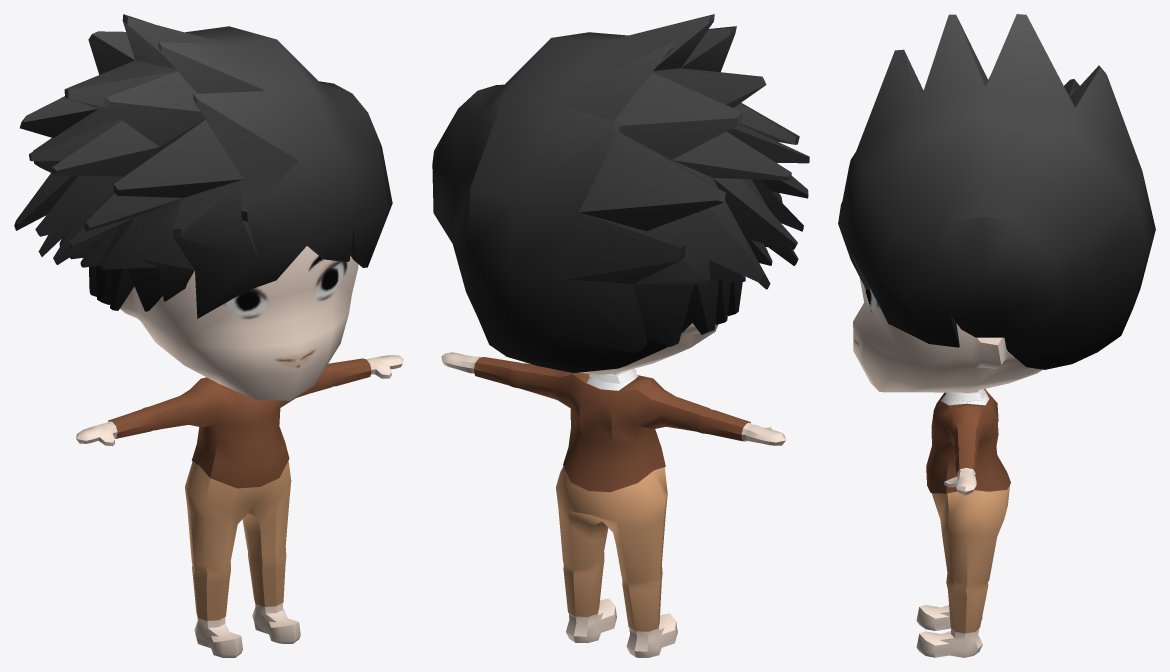
The model's file is Char_COWOK_002.fbx.
3 renders of one model, left to right at view 1: azimuth 30°, elevation 25°; view 2: azimuth 150°, elevation 25°; view 3: azimuth 270°, elevation 25°, orthographic. The views are drawn at different scales.
Visible parts, largest first — view 1: Char 1.011, Char 1.010, Char 1.012, Char 1.013; view 2: Char 1.011, Char 1.012, Char 1.013, Char 1.010; view 3: Char 1.011, Char 1.010, Char 1.013, Char 1.012.
Part boxes in pixels (bbox=[...]): Char 1.011: bbox=[14, 14, 392, 318]; Char 1.010: bbox=[76, 246, 403, 657]; Char 1.012: bbox=[108, 358, 371, 488]; Char 1.013: bbox=[185, 461, 291, 620]; Char 1.011: bbox=[432, 14, 809, 372]; Char 1.012: bbox=[474, 357, 750, 492]; Char 1.013: bbox=[556, 466, 667, 631]; Char 1.010: bbox=[441, 323, 785, 657]; Char 1.011: bbox=[838, 14, 1155, 369]; Char 1.010: bbox=[853, 277, 1042, 657]; Char 1.013: bbox=[931, 485, 1009, 633]; Char 1.012: bbox=[926, 388, 1010, 493].
Size of the model in its own units: 898 by 1499 by 738.
2 materials, 2 textured.
